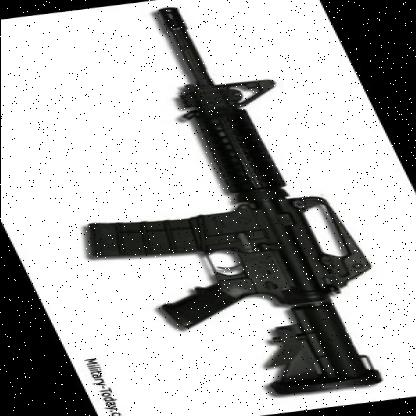rifle: (0, 0, 409, 408)
